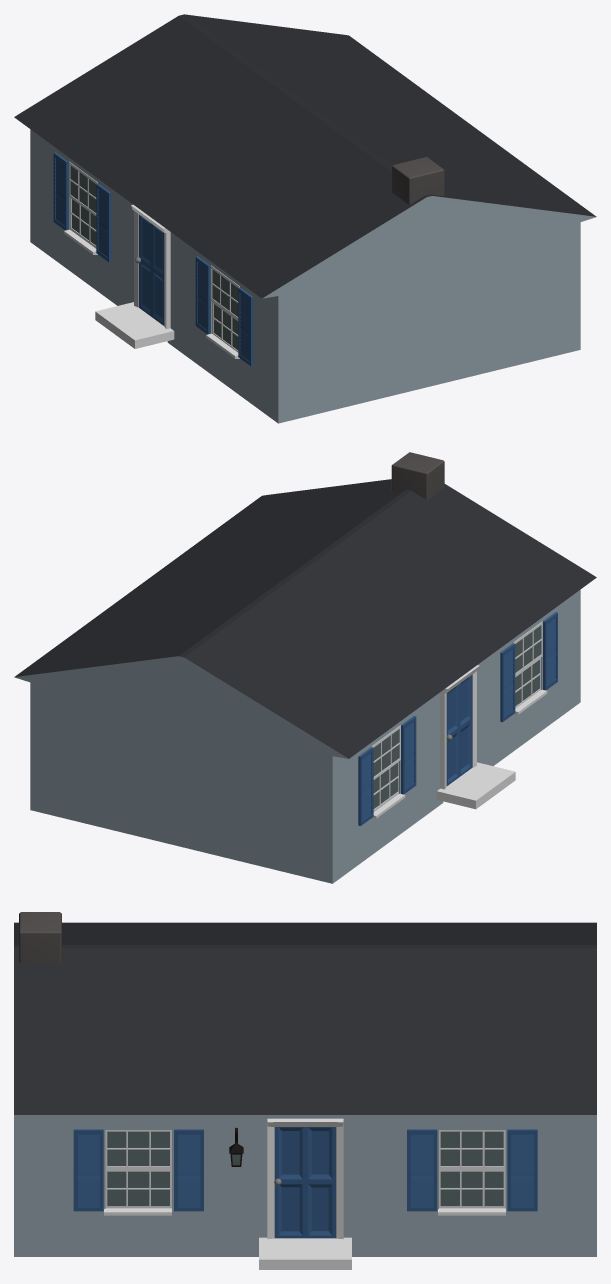
Rendered from house_blue_temp.fbx.
3 renders of one model, top to bottom at view 1: azimuth 30°, elevation 25°; view 2: azimuth 150°, elevation 25°; view 3: azimuth 270°, elevation 25°, orthographic. The views are drawn at different scales.
Visible parts, largest first — view 1: house_base, front_door, window_panel_r (×2), window_panel_l (×2), back_door_stoop, chimney1, window_glass (×2), window_glass1 (×2), front_door_frame; view 2: house_base, front_door, window_panel_l (×2), window_panel_r (×2), back_door_stoop, chimney1, window_glass (×2), front_door_frame, window_glass1 (×2); view 3: house_base, front_door, window_panel_l (×2), window_panel_r (×2), window_glass1 (×2), window_glass (×2), front_door_stoop, front_door_frame, chimney1, window_boxes (×2), window_boxes1 (×2), sill_4 (+1 smaller).
Boxes of the visible parts, x1,y1,x2,y2 form: house_base: (14, 14, 596, 423); front_door: (138, 214, 164, 325); window_panel_r (×2): (96, 183, 253, 366); window_panel_l (×2): (53, 152, 210, 334); back_door_stoop: (95, 302, 174, 348); chimney1: (392, 157, 444, 204); window_glass (×2): (70, 165, 238, 316); window_glass1 (×2): (72, 199, 238, 350); front_door_frame: (131, 204, 170, 329); house_base: (14, 479, 596, 883); front_door: (446, 675, 472, 785); window_panel_l (×2): (358, 643, 515, 825); window_panel_r (×2): (401, 612, 557, 794); back_door_stoop: (436, 762, 515, 809); chimney1: (391, 452, 444, 499); window_glass (×2): (373, 625, 541, 776); front_door_frame: (440, 665, 479, 789); window_glass1 (×2): (373, 660, 539, 808); house_base: (14, 922, 596, 1256); front_door: (274, 1127, 336, 1238); window_panel_l (×2): (73, 1129, 437, 1211); window_panel_r (×2): (174, 1129, 537, 1211); window_glass1 (×2): (107, 1171, 503, 1206); window_glass (×2): (107, 1131, 503, 1165); front_door_stoop: (259, 1237, 351, 1269); front_door_frame: (267, 1118, 343, 1239); chimney1: (19, 912, 61, 963); window_boxes (×2): (105, 1130, 505, 1169); window_boxes1 (×2): (105, 1169, 505, 1208); sill_4: (438, 1208, 505, 1215).
Bounding box in the file's own units: 46.03 × 24.47 × 52.
